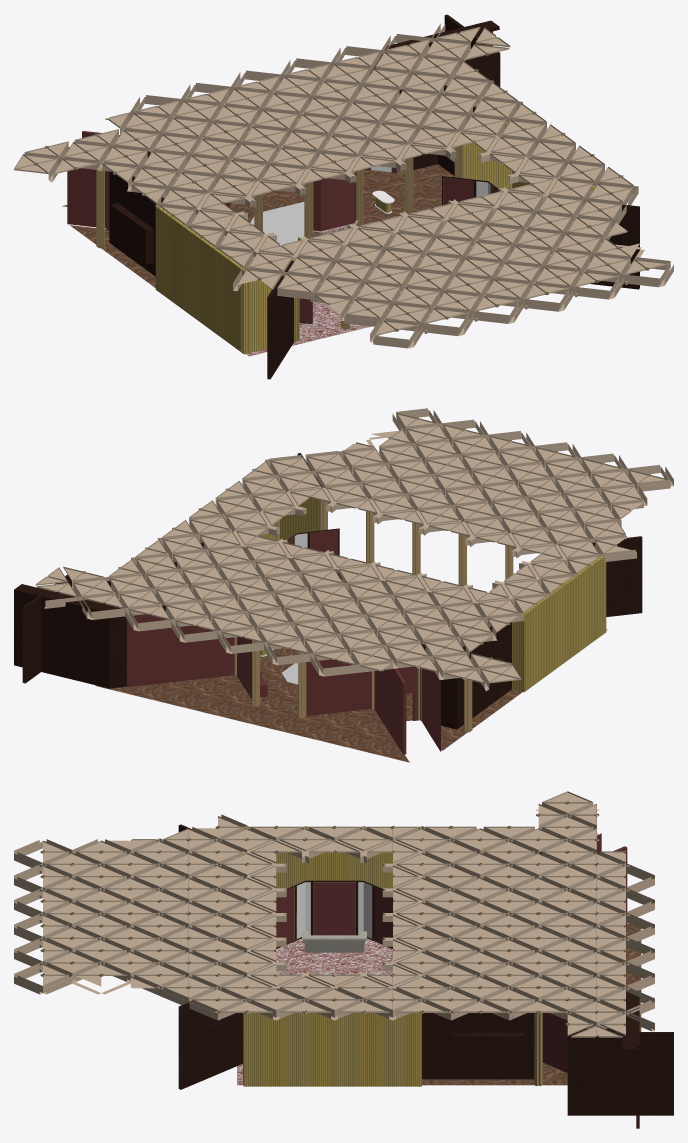
Rendered from Chancery Rosewood_LOBBY_BAKE_LM.glb.
3 views of the same model, one above another, from view 1: azimuth 30°, elevation 25°; view 2: azimuth 150°, elevation 25°; view 3: azimuth 270°, elevation 25° (orthographic). The views are drawn at different scales.
Parts seen in each view (by area): view 1: LOBBY_LOW_LM; view 2: LOBBY_LOW_LM; view 3: LOBBY_LOW_LM.
Part boxes in pixels (x1,y1,x2,y2): LOBBY_LOW_LM: (14, 14, 673, 379); LOBBY_LOW_LM: (14, 408, 673, 762); LOBBY_LOW_LM: (14, 791, 673, 1128).
Size of the model in its own units: 34.8 by 5.5 by 38.5.
15 materials, 8 textured.
